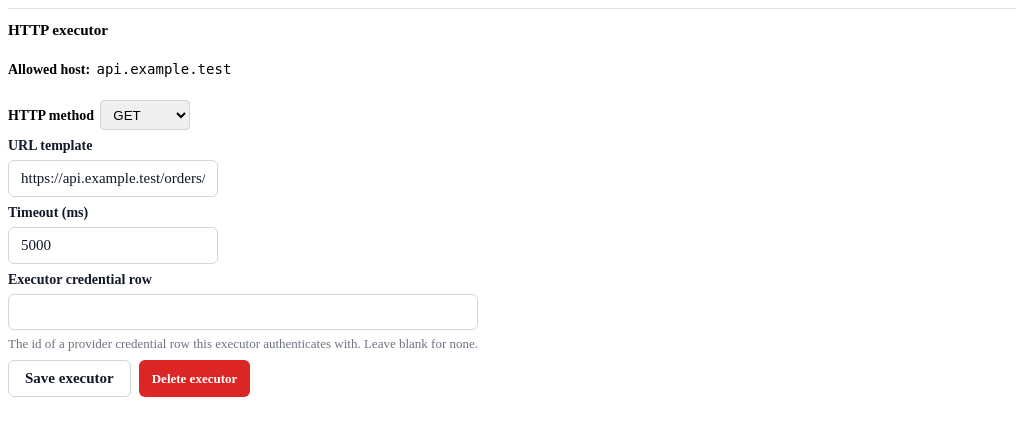
Test: SkillExecutorPanel › save PATCHes with a quoted updated_at as If-Match
Expected: the text "api.example.test" is shown, [96,61,231,77]
Replace the text in the number field labelled "Timeout (ms)" with "9000" at (113, 245), box [8,227,218,264]
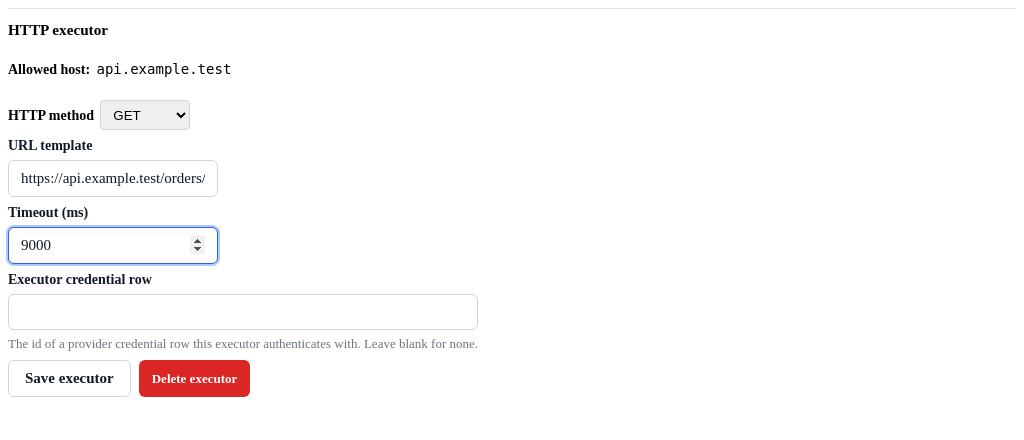
Click the button "Save executor" at (69, 379), box [8,360,131,397]
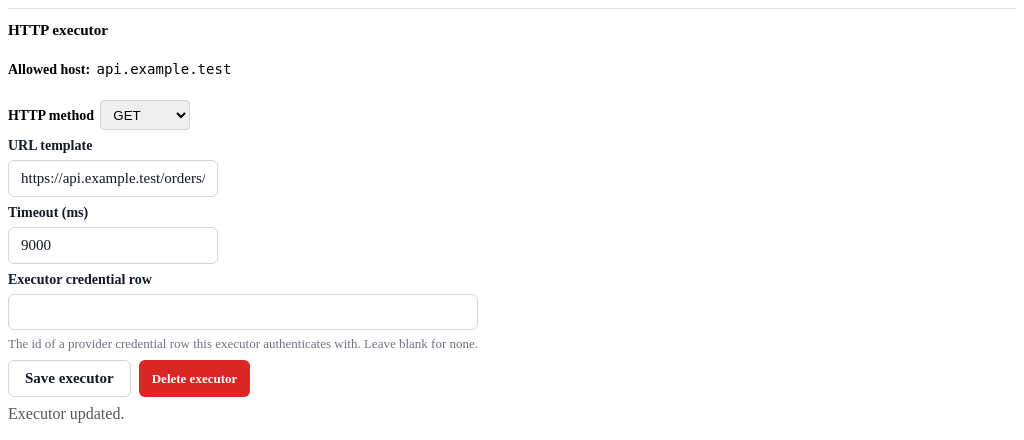
Expected: the text "Executor updated." is shown, [8,405,124,423]
